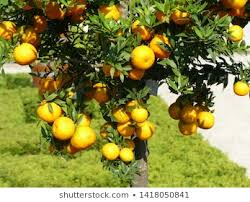orange: (69, 125, 97, 150), (128, 45, 155, 69), (50, 116, 74, 140), (13, 43, 36, 65), (232, 77, 250, 99), (197, 109, 215, 130), (226, 23, 244, 43), (178, 104, 196, 123), (99, 142, 119, 158), (131, 107, 149, 122)
